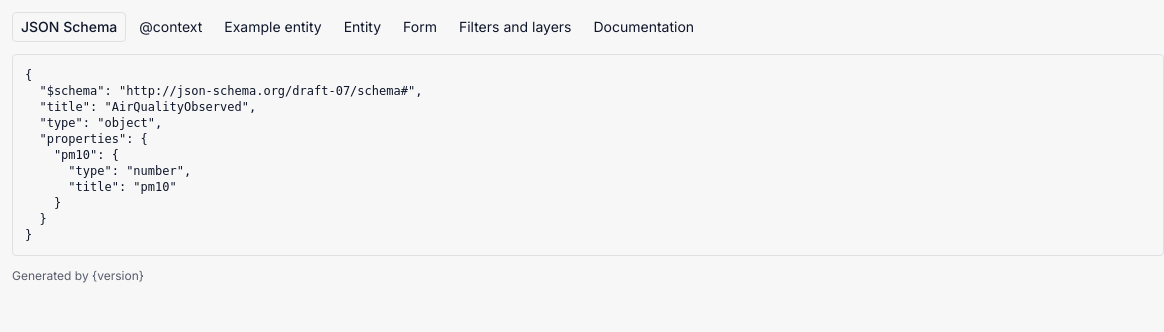
Test: LinkML preview panel › shows the documentation Model Tools rendered rather than a second rendering of it
Expected: the text "AirQualityObserved" is shown, left=25, top=68, right=422, bottom=242
Click the tab "Documentation".
click(644, 27)  # box left=584, top=12, right=703, bottom=42
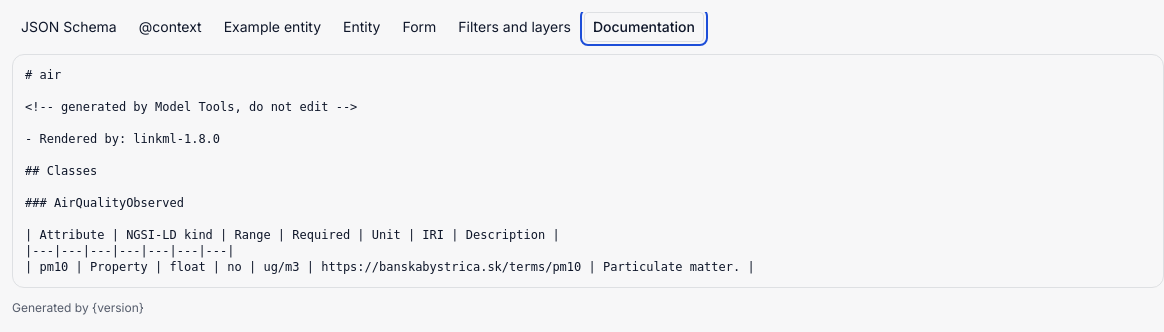
Result: the text "Rendered by: linkml-1.8.0" shows "ug/m3" at left=25, top=68, right=755, bottom=274
Result: the text "Rendered by: linkml-1.8.0" shows "https://banskabystrica.sk/terms/pm10" at left=25, top=68, right=755, bottom=274
Result: the text "Rendered by: linkml-1.8.0" shows "Particulate matter." at left=25, top=68, right=755, bottom=274
